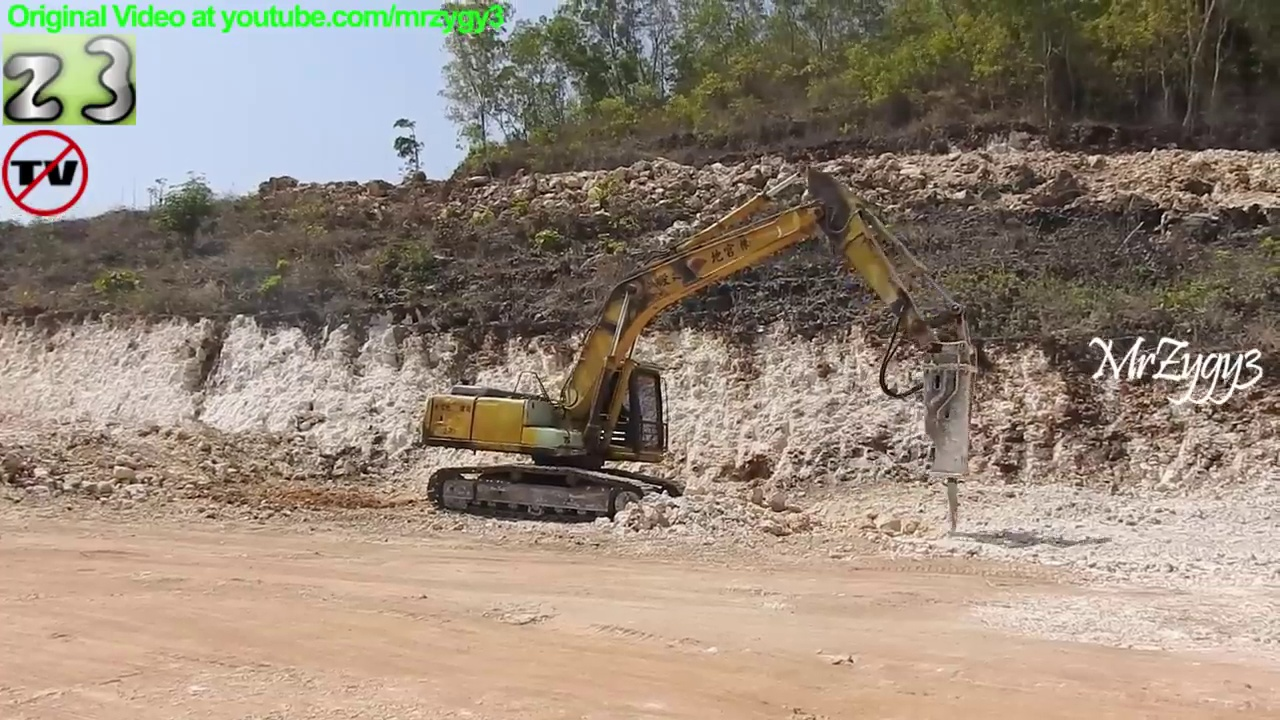excavator breaker: (415, 161, 985, 547)
